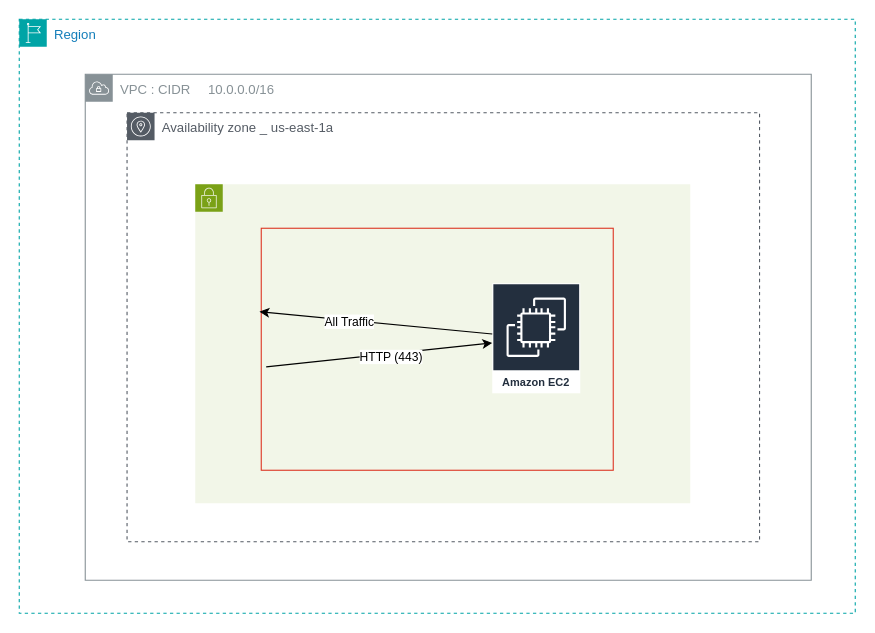
Image size: 875x633. Some labels were removed from this diagram. The shapes that lost their labels are listed below. From the top down, each one's box as (x1, y1, x2, y2) in pixels, then its label:
(260, 227, 613, 470): Security group allow_tls
(194, 183, 690, 503): Public subnet - 10.0.1.0/24
